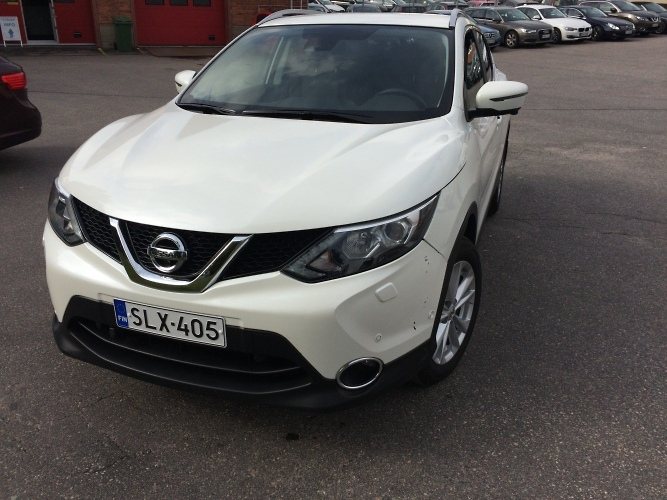license: (112, 295, 221, 349)
